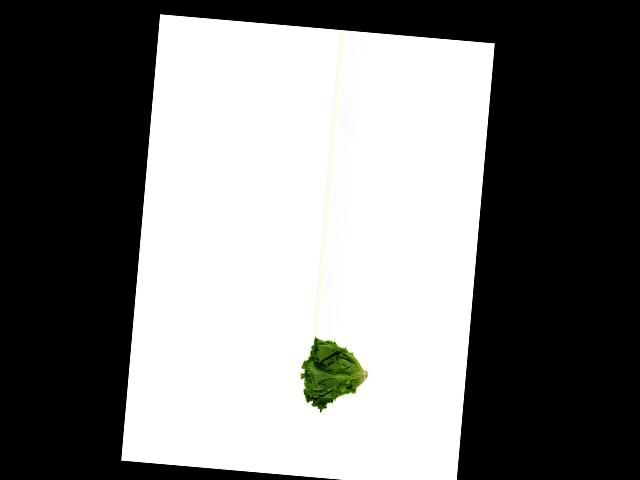lettuce: (295, 335, 372, 412)
